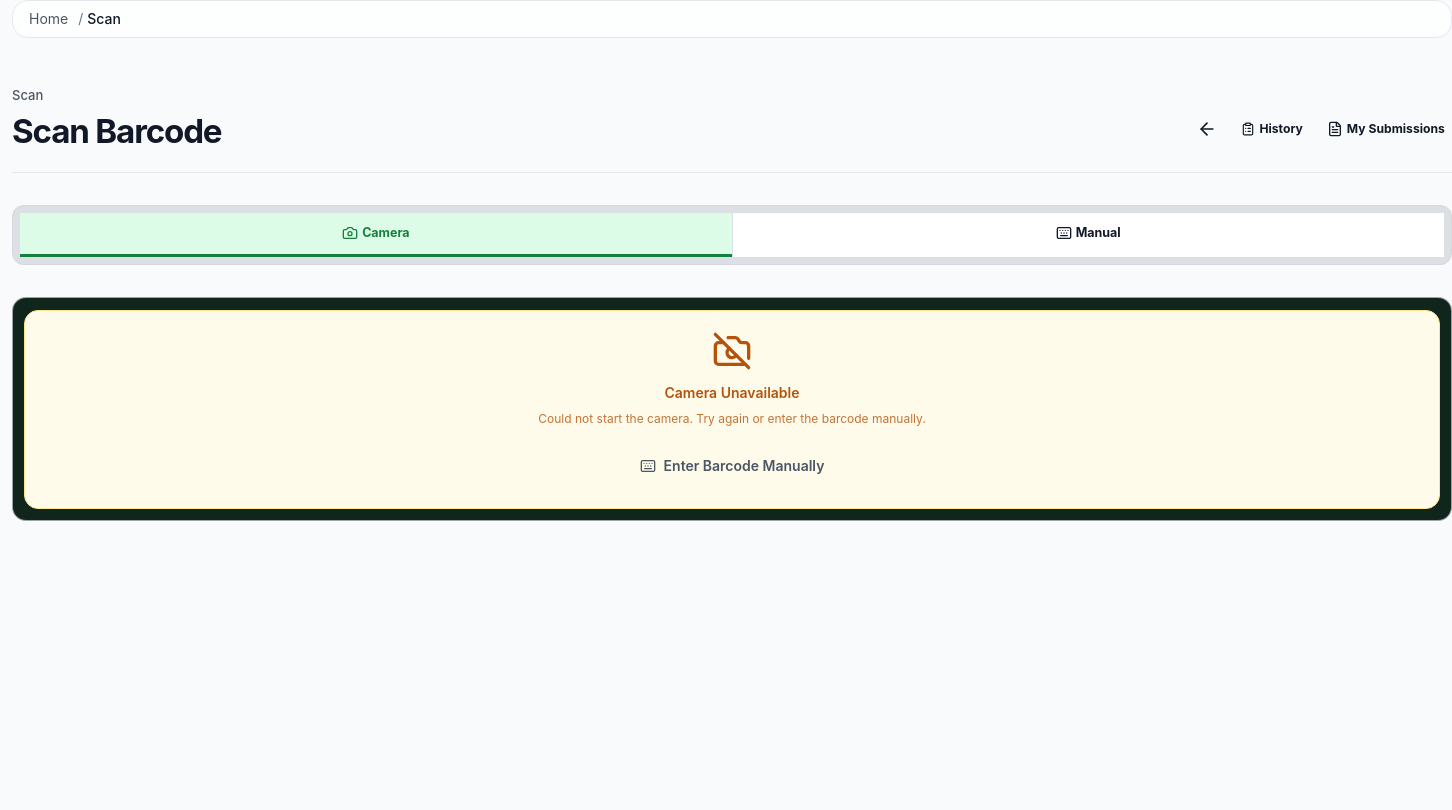
Test: ScanPage › strips non-digits from manual input
Click the button "Manual": (1088,235) [732,213,1444,257]
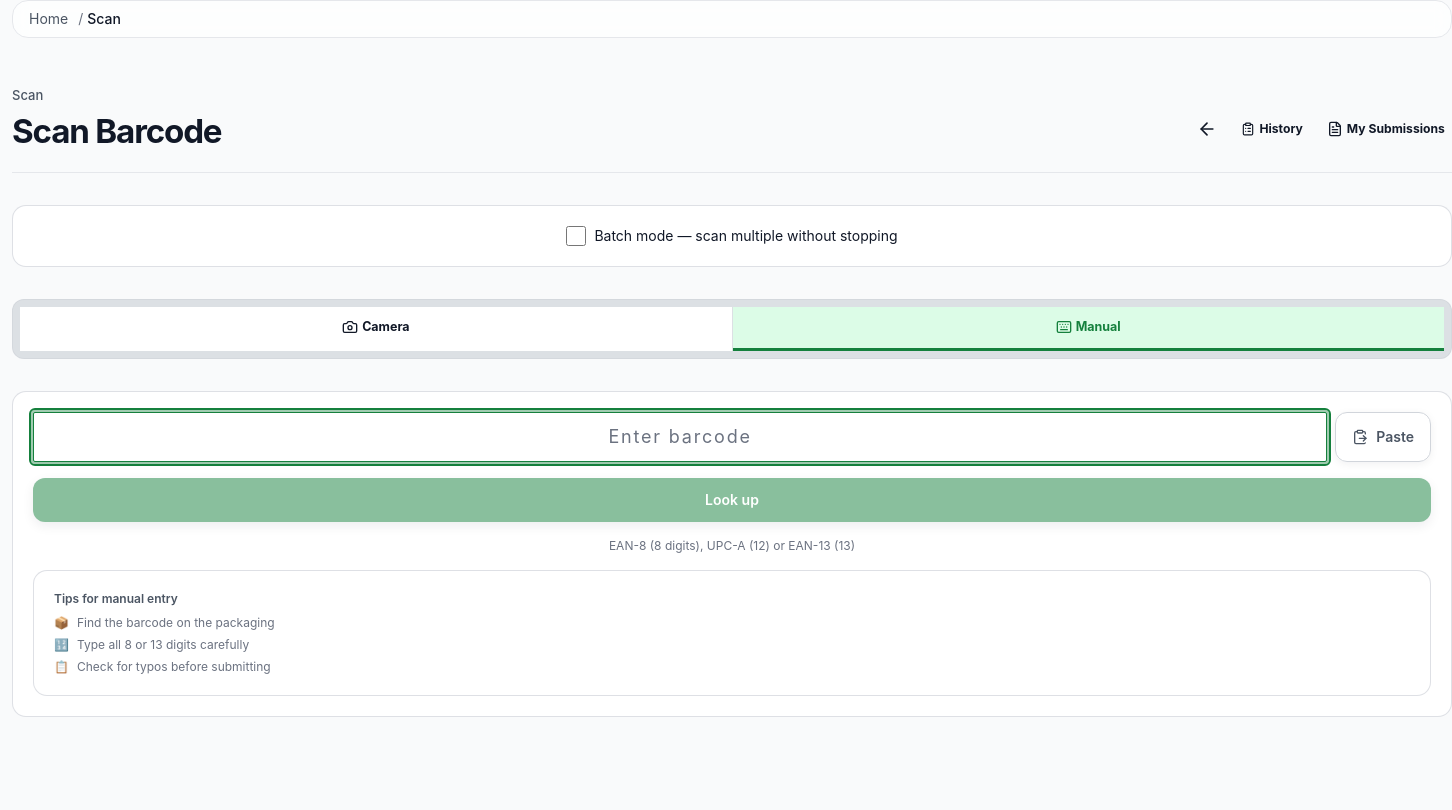
In the field with placeholder "Enter barcode": (680,437) [33,412,1327,462], type "590-123-412"
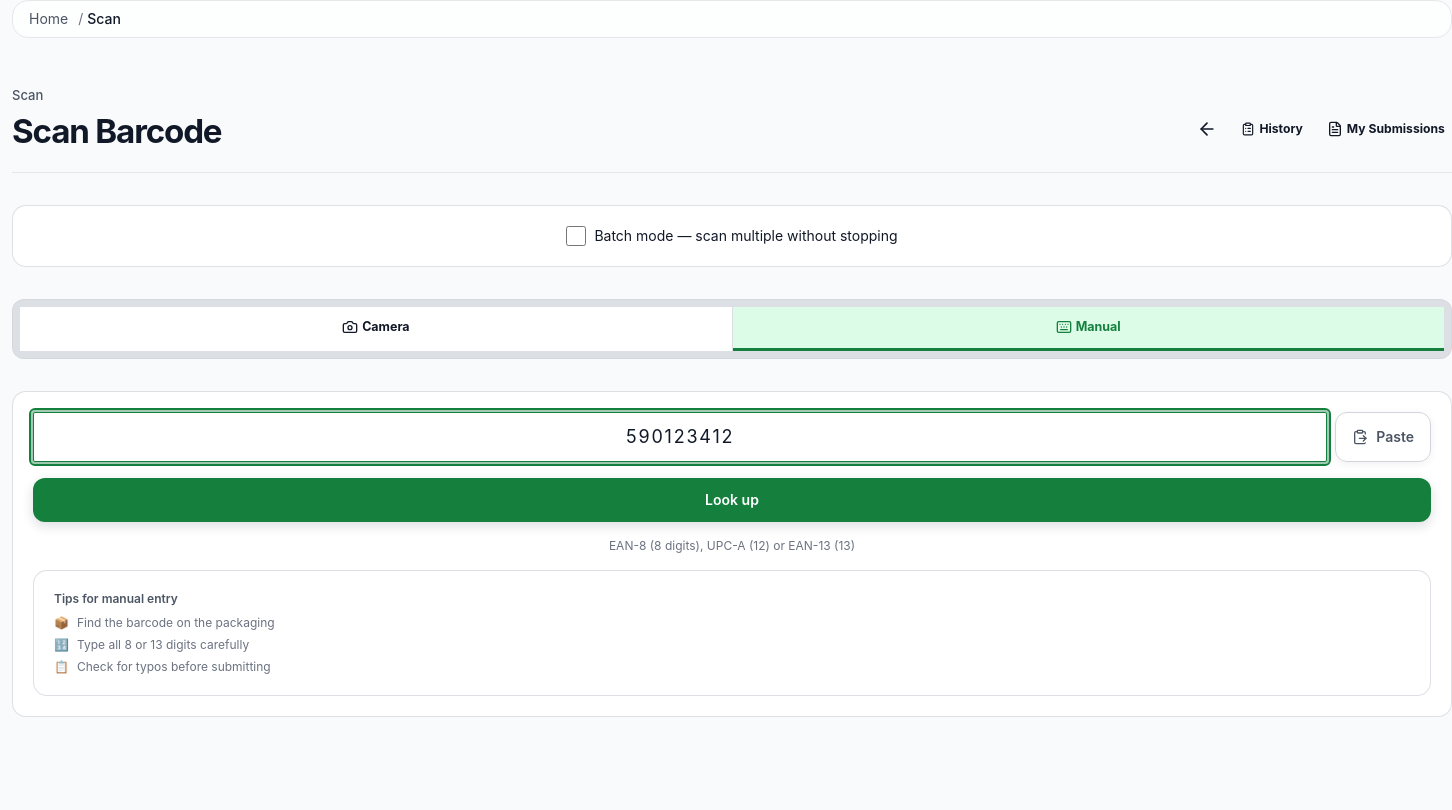
Expected: the field with placeholder "Enter barcode" holds "590123412", [33,412,1327,462]
